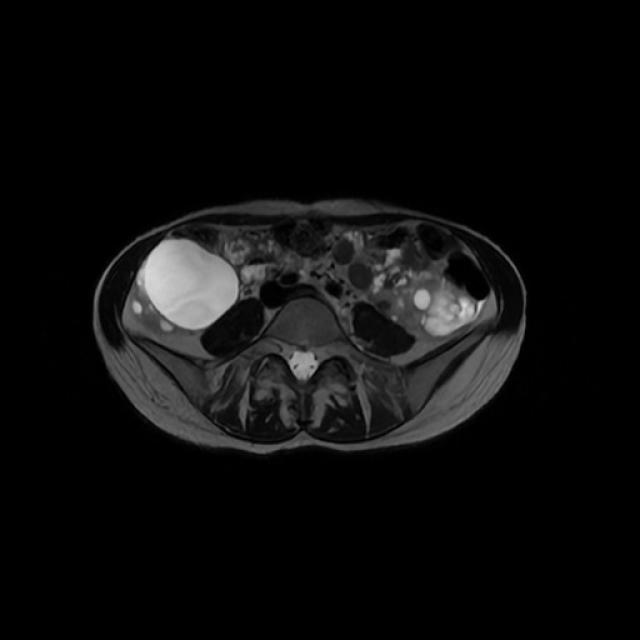sag: (128, 236, 240, 342)
sol: (367, 271, 460, 340)
